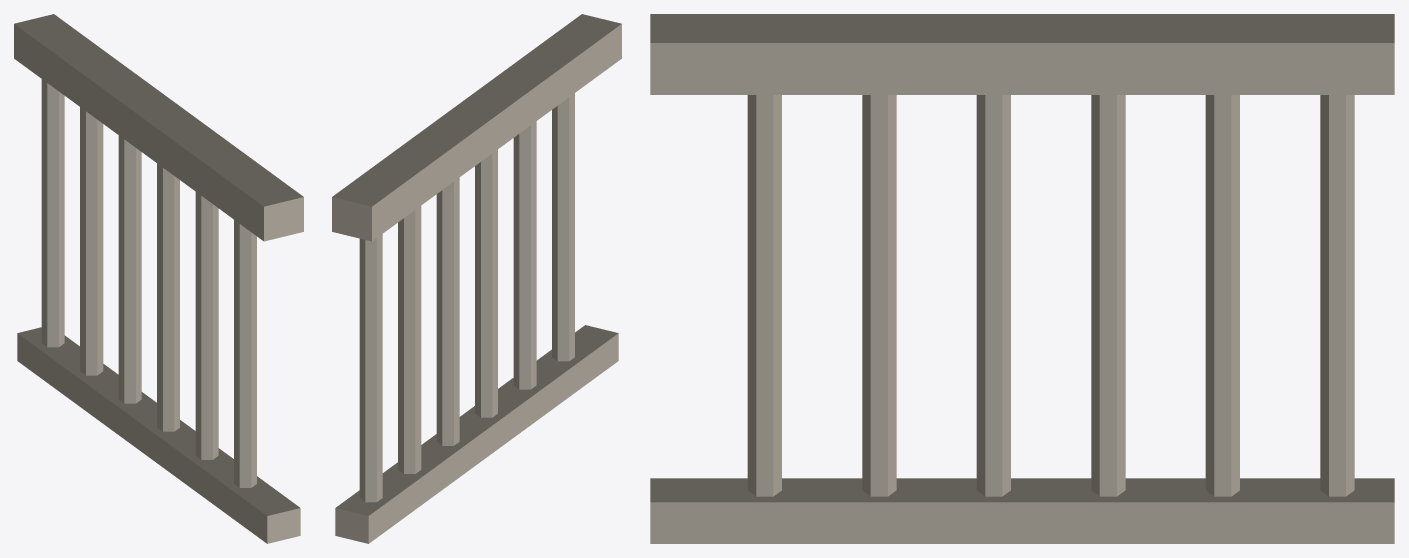
File: SM_VK_Gallery_Side.fbx
3 renders of one model, left to right at view 1: azimuth 30°, elevation 25°; view 2: azimuth 150°, elevation 25°; view 3: azimuth 270°, elevation 25°, orthographic. The views are drawn at different scales.
Visible parts, largest first — view 1: SM_VK_Gallery_Side.001; view 2: SM_VK_Gallery_Side.001; view 3: SM_VK_Gallery_Side.001.
Boxes of the visible parts, x1,y1,x2,y2 form: SM_VK_Gallery_Side.001: (14, 14, 303, 543); SM_VK_Gallery_Side.001: (332, 14, 621, 543); SM_VK_Gallery_Side.001: (650, 14, 1394, 543).
Bounding box in the file's own units: 0.12 × 0.97 × 1.3.
